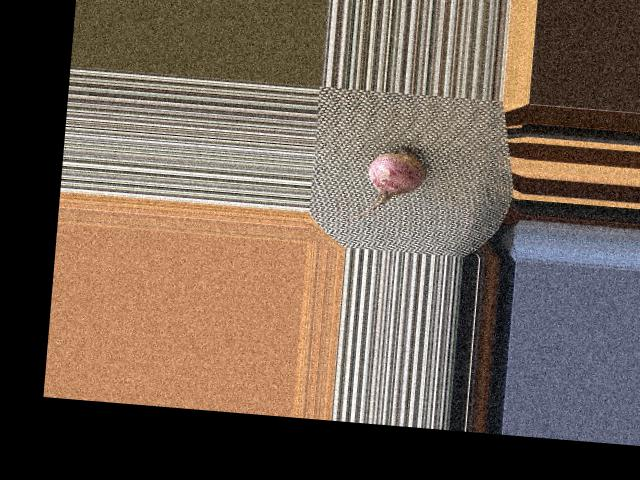beet: (339, 140, 428, 226)
